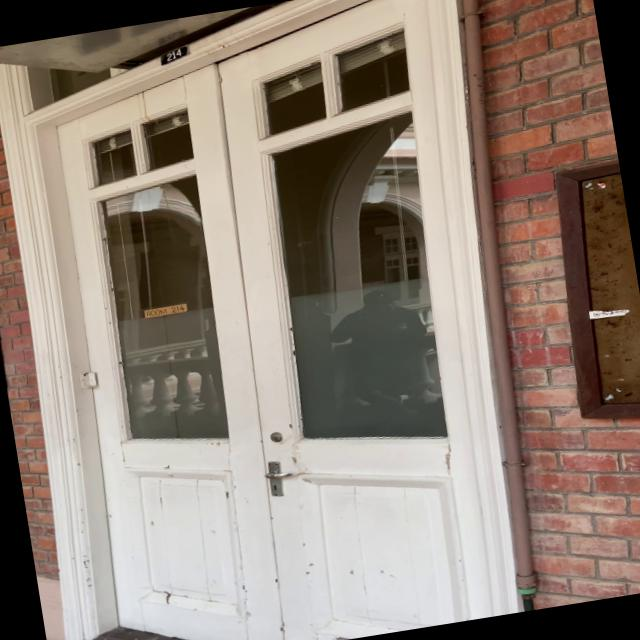room214: (158, 45, 192, 67)
